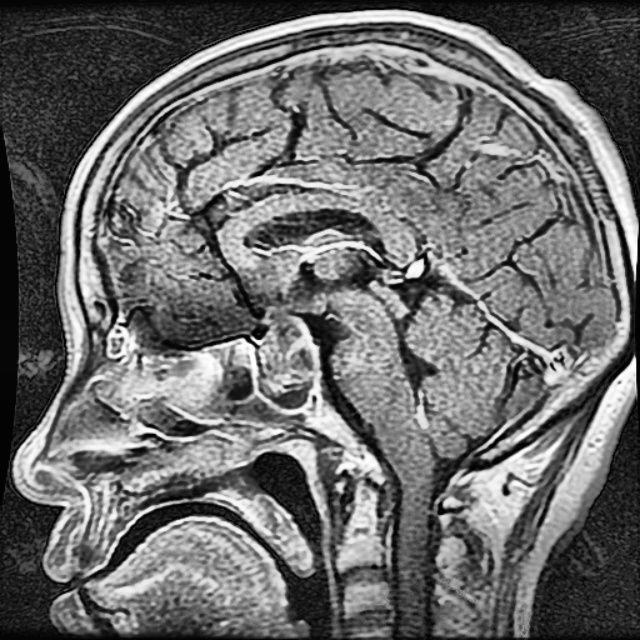Pituitary: (260, 313, 318, 398)
